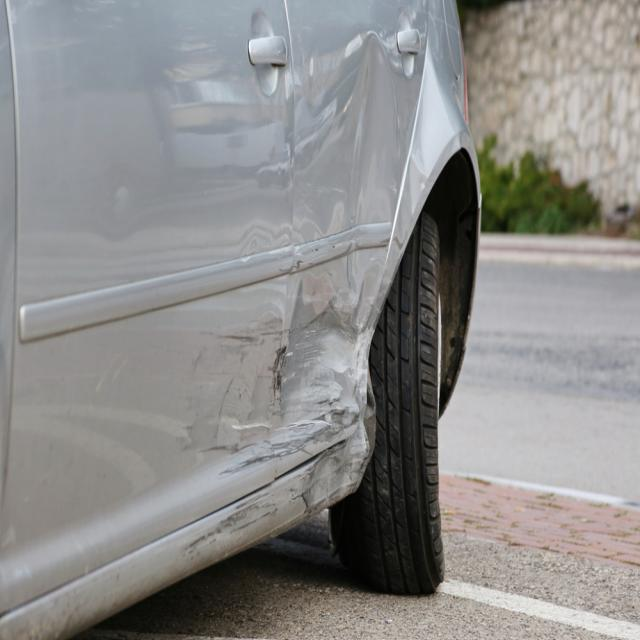dent: (271, 35, 404, 465), (297, 429, 369, 516)
scratch: (177, 313, 287, 480), (186, 486, 281, 567)
